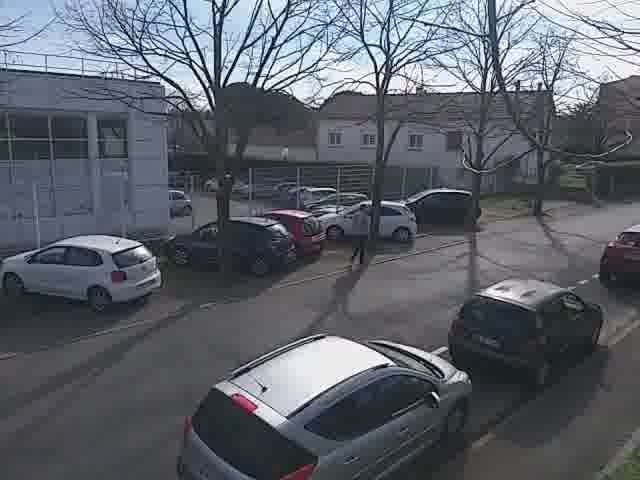persona: (344, 193, 374, 271)
